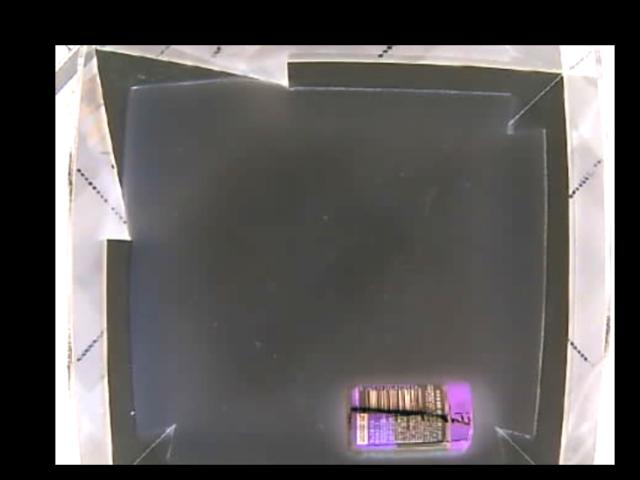Bottle: (347, 380, 474, 457)
